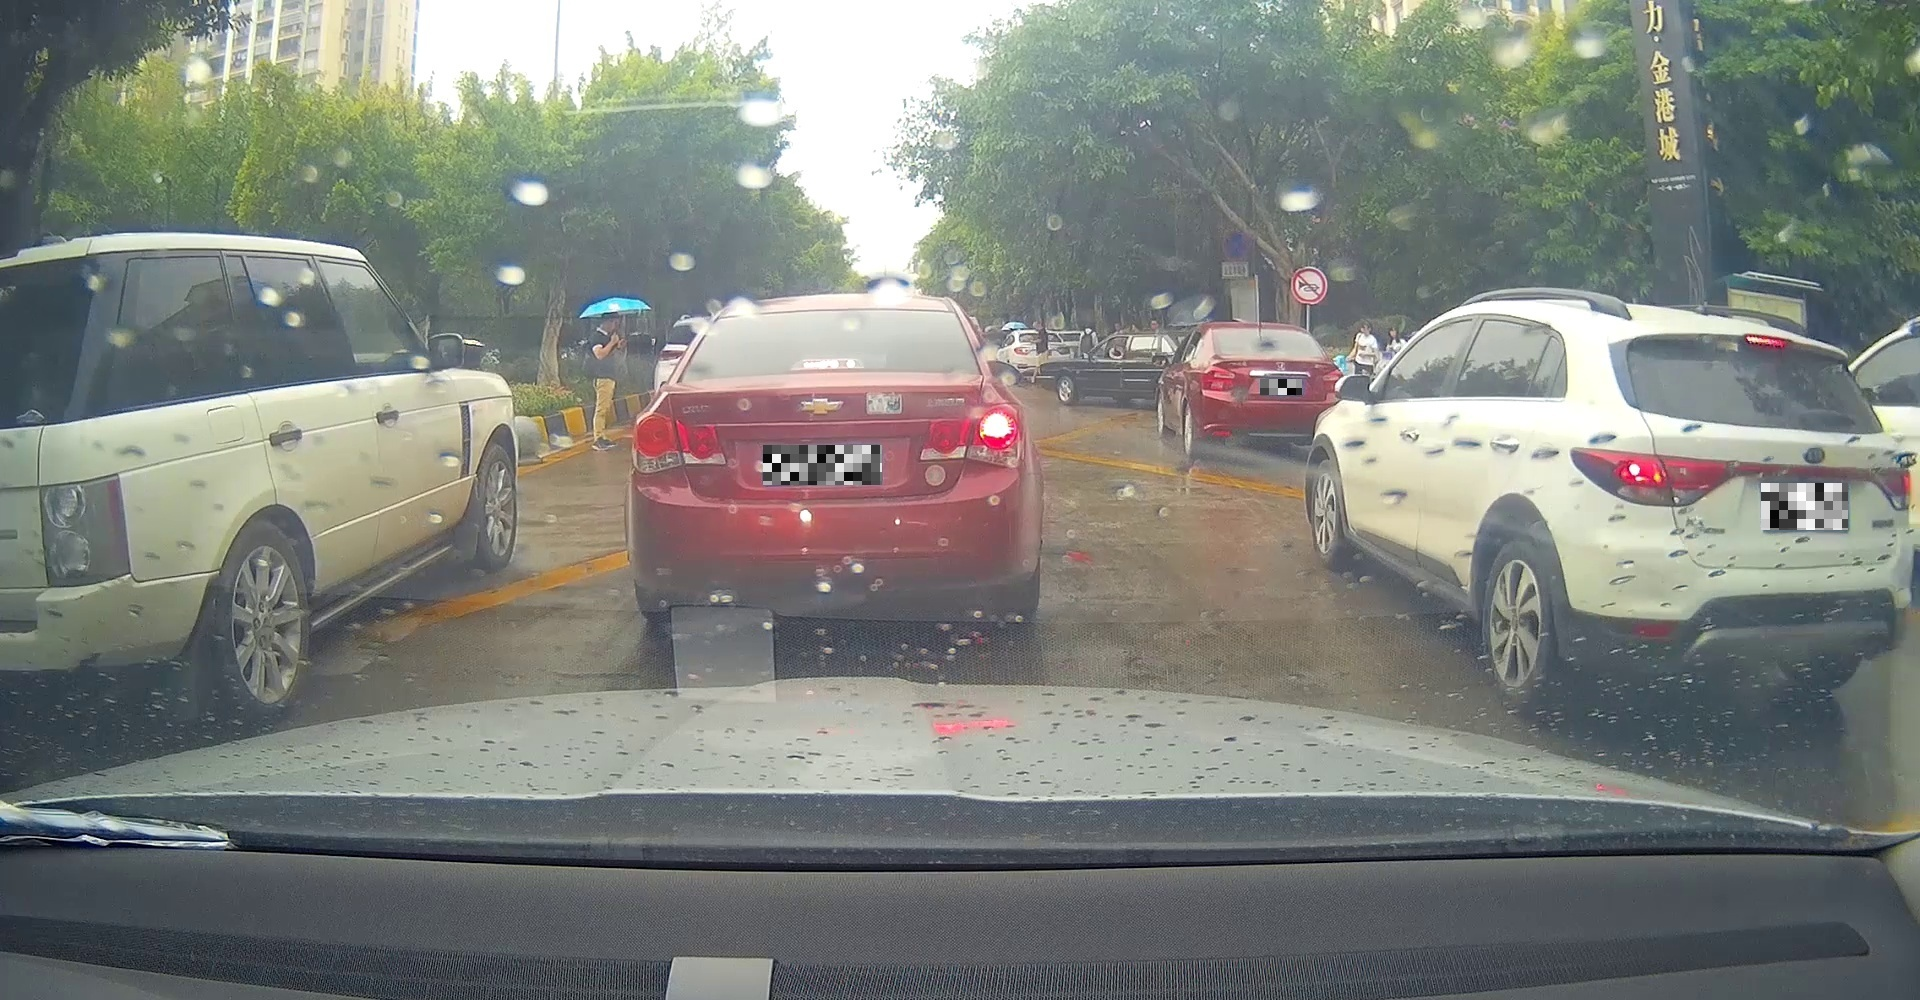L_light: (1571, 445, 1732, 508), (631, 410, 728, 472), (1203, 367, 1236, 390)
R_light: (919, 404, 1023, 468), (1869, 467, 1912, 511), (1321, 369, 1343, 390)
T_light: (792, 358, 865, 369), (1745, 335, 1790, 346), (1258, 349, 1283, 357)
day-brake: (1568, 301, 1914, 708)
day-no: (1201, 322, 1343, 457)
day-right: (622, 293, 1043, 624)
plate_1: (763, 445, 883, 485)
plate_2: (1260, 379, 1302, 395)
plate_3: (1761, 484, 1848, 530)
